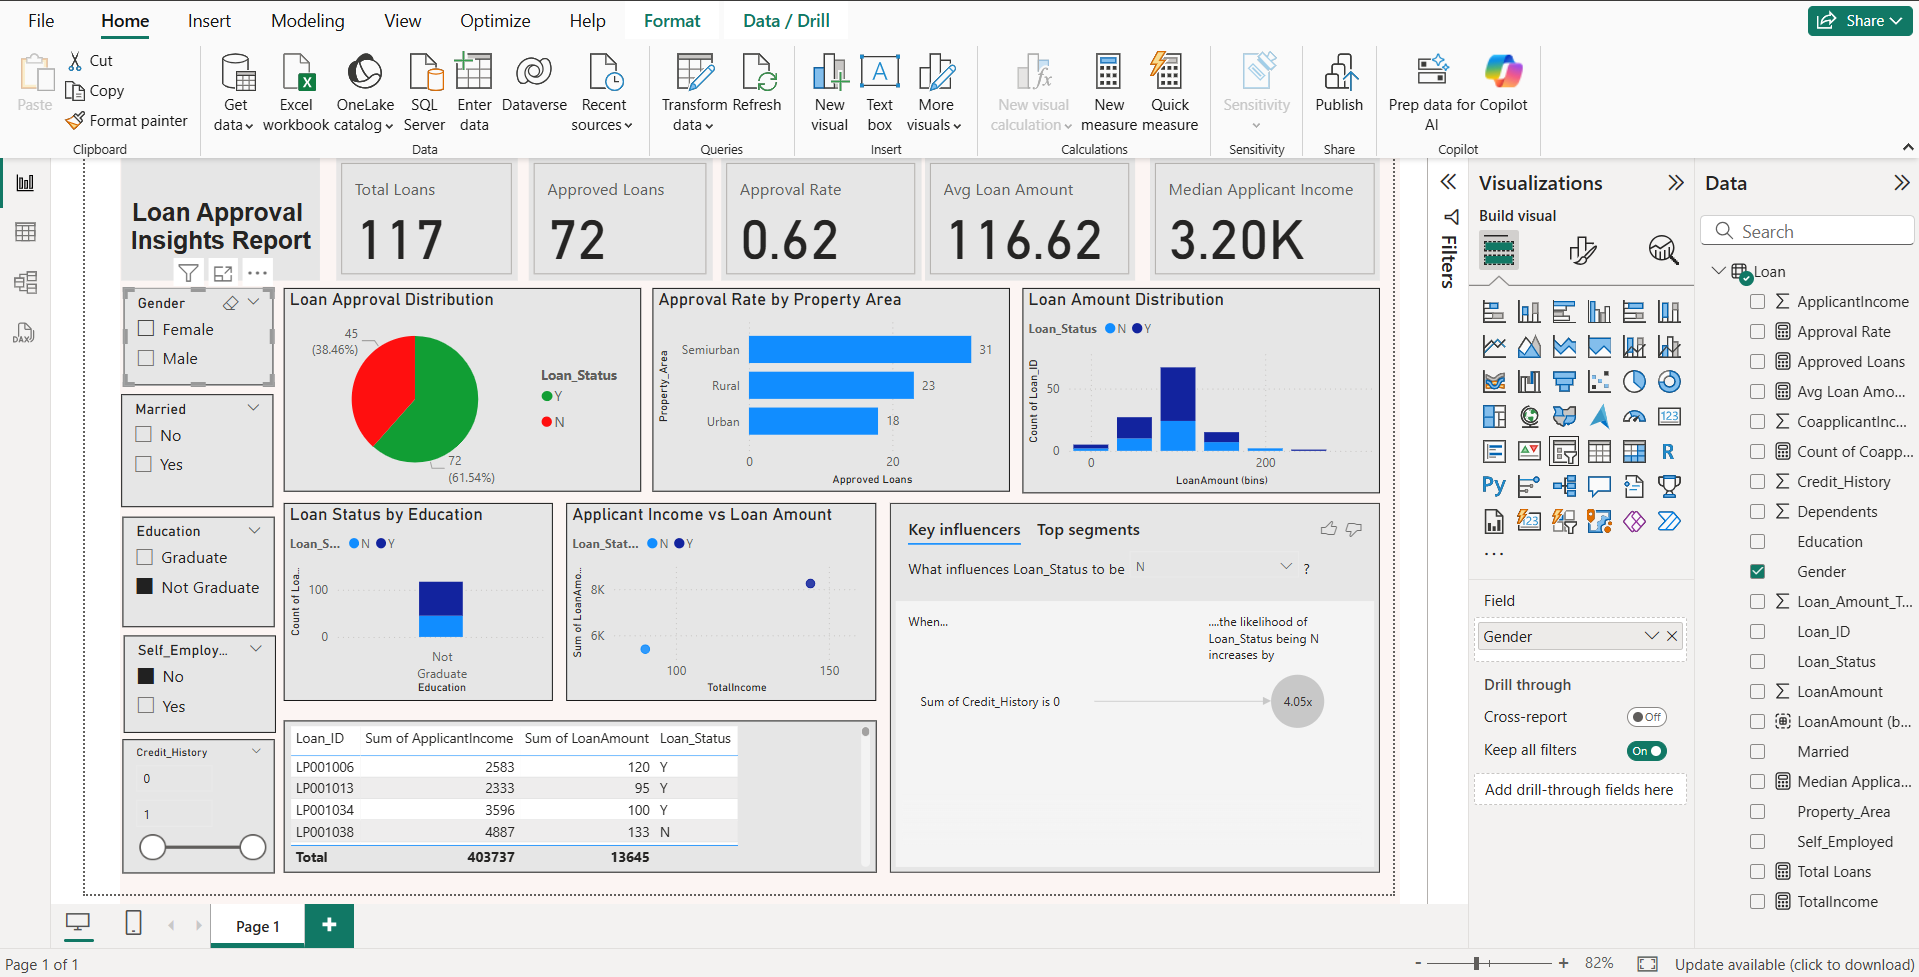

Layout of this report page (visuals, bound fields, positions):
{"tool":"powerbi","page":{"name":"Page 1","canvas":[1280,720],"ordinal":0},"visuals":[{"type":"cardVisual","fields":{"Data":["Loan.Total Loans"]},"box":[245.8,0,177.3,119.8],"z":0},{"type":"cardVisual","fields":{"Data":["Loan.Approved Loans"]},"box":[434.1,0,179.8,119.8],"z":1000},{"type":"cardVisual","fields":{"Data":["Loan.Approval Rate"]},"box":[622.4,0,195.7,119.8],"z":2000},{"type":"cardVisual","fields":{"Data":["Loan.Avg Loan Amount"]},"box":[821.7,0,205.4,119.8],"z":3000},{"type":"cardVisual","fields":{"Data":["Loan.Median Applicant Income"]},"box":[1041.9,0,225,119.8],"z":4000},{"type":"slicer","fields":{"Values":["Loan.Gender"]},"box":[37.9,127.2,146.7,95.4],"z":5000},{"type":"slicer","fields":{"Values":["Loan.Married"]},"box":[35.5,231.1,149.2,110.1],"z":6000},{"type":"slicer","fields":{"Values":["Loan.Education"]},"box":[36.7,351,149.2,107.6],"z":7000},{"type":"slicer","fields":{"Values":["Loan.Self_Employed"]},"box":[37.9,467.1,149.2,95.4],"z":8000},{"type":"slicer","fields":{"Values":["Loan.Credit_History"]},"box":[36.7,568.6,149.2,130.8],"z":9000},{"type":"pieChart","title":"Loan Approval Distribution","fields":{"Category":["Loan.Loan_Status"],"Y":["CountNonNull(Loan.Loan_ID)"]},"box":[194.4,127.2,349.7,199.3],"z":10000},{"type":"clusteredBarChart","title":"Approval Rate by Property Area","fields":{"Category":["Loan.Property_Area"],"Y":["Loan.Approved Loans"]},"box":[555.2,127.2,349.7,199.3],"z":11000},{"type":"columnChart","title":"Loan Status by Education","fields":{"Category":["Loan.Education"],"Series":["Loan.Loan_Status"],"Y":["CountNonNull(Loan.Loan_ID)"]},"box":[194.4,337.5,262.9,193.2],"z":11001},{"type":"scatterChart","title":"Applicant Income vs Loan Amount","fields":{"X":["Loan.TotalIncome"],"Y":["Sum(Loan.LoanAmount)"],"Series":["Loan.Loan_Status"]},"box":[470.8,337.5,303.3,193.2],"z":11002},{"type":"columnChart","title":"Loan Amount Distribution","fields":{"Category":["Loan.LoanAmount (bins)"],"Y":["CountNonNull(Loan.Loan_ID)"],"Series":["Loan.Loan_Status"]},"box":[917.1,127.2,349.7,200.5],"z":11003},{"type":"keyDriversVisual","fields":{"Target":["Loan.Loan_Status"],"ExplainBy":["Sum(Loan.Credit_History)","Loan.TotalIncome","Loan.Education","Loan.Property_Area","Loan.Gender"]},"box":[787.5,337.5,479.4,362],"z":11004},{"type":"tableEx","fields":{"Values":["Loan.Loan_ID","Sum(Loan.ApplicantIncome)","Sum(Loan.LoanAmount)","Loan.Loan_Status"]},"box":[194.4,550.3,579.6,149.2],"z":11005},{"type":"textbox","box":[35.5,0,194.4,119.8],"z":11006}]}

Visuals, with their boxes on the page's 1280x720 design canvas (x1, y1, x2, y2). These are canvas units, not pixel positions in the 1919x977 screenshot, which may show the page scaled, cropped or inside an application window:
cardVisual - Loan.Total Loans: detection(246, 0, 423, 120)
cardVisual - Loan.Approved Loans: detection(434, 0, 614, 120)
cardVisual - Loan.Approval Rate: detection(622, 0, 818, 120)
cardVisual - Loan.Avg Loan Amount: detection(822, 0, 1027, 120)
cardVisual - Loan.Median Applicant Income: detection(1042, 0, 1267, 120)
slicer - Loan.Gender: detection(38, 127, 185, 223)
slicer - Loan.Married: detection(36, 231, 185, 341)
slicer - Loan.Education: detection(37, 351, 186, 459)
slicer - Loan.Self_Employed: detection(38, 467, 187, 562)
slicer - Loan.Credit_History: detection(37, 569, 186, 699)
"Loan Approval Distribution" pieChart: detection(194, 127, 544, 326)
"Approval Rate by Property Area" clusteredBarChart: detection(555, 127, 905, 326)
"Loan Status by Education" columnChart: detection(194, 338, 457, 531)
"Applicant Income vs Loan Amount" scatterChart: detection(471, 338, 774, 531)
"Loan Amount Distribution" columnChart: detection(917, 127, 1267, 328)
keyDriversVisual - Loan.Loan_Status x Sum(Loan.Credit_History): detection(788, 338, 1267, 700)
tableEx - Loan.Loan_ID x Sum(Loan.ApplicantIncome): detection(194, 550, 774, 700)
textbox: detection(36, 0, 230, 120)
